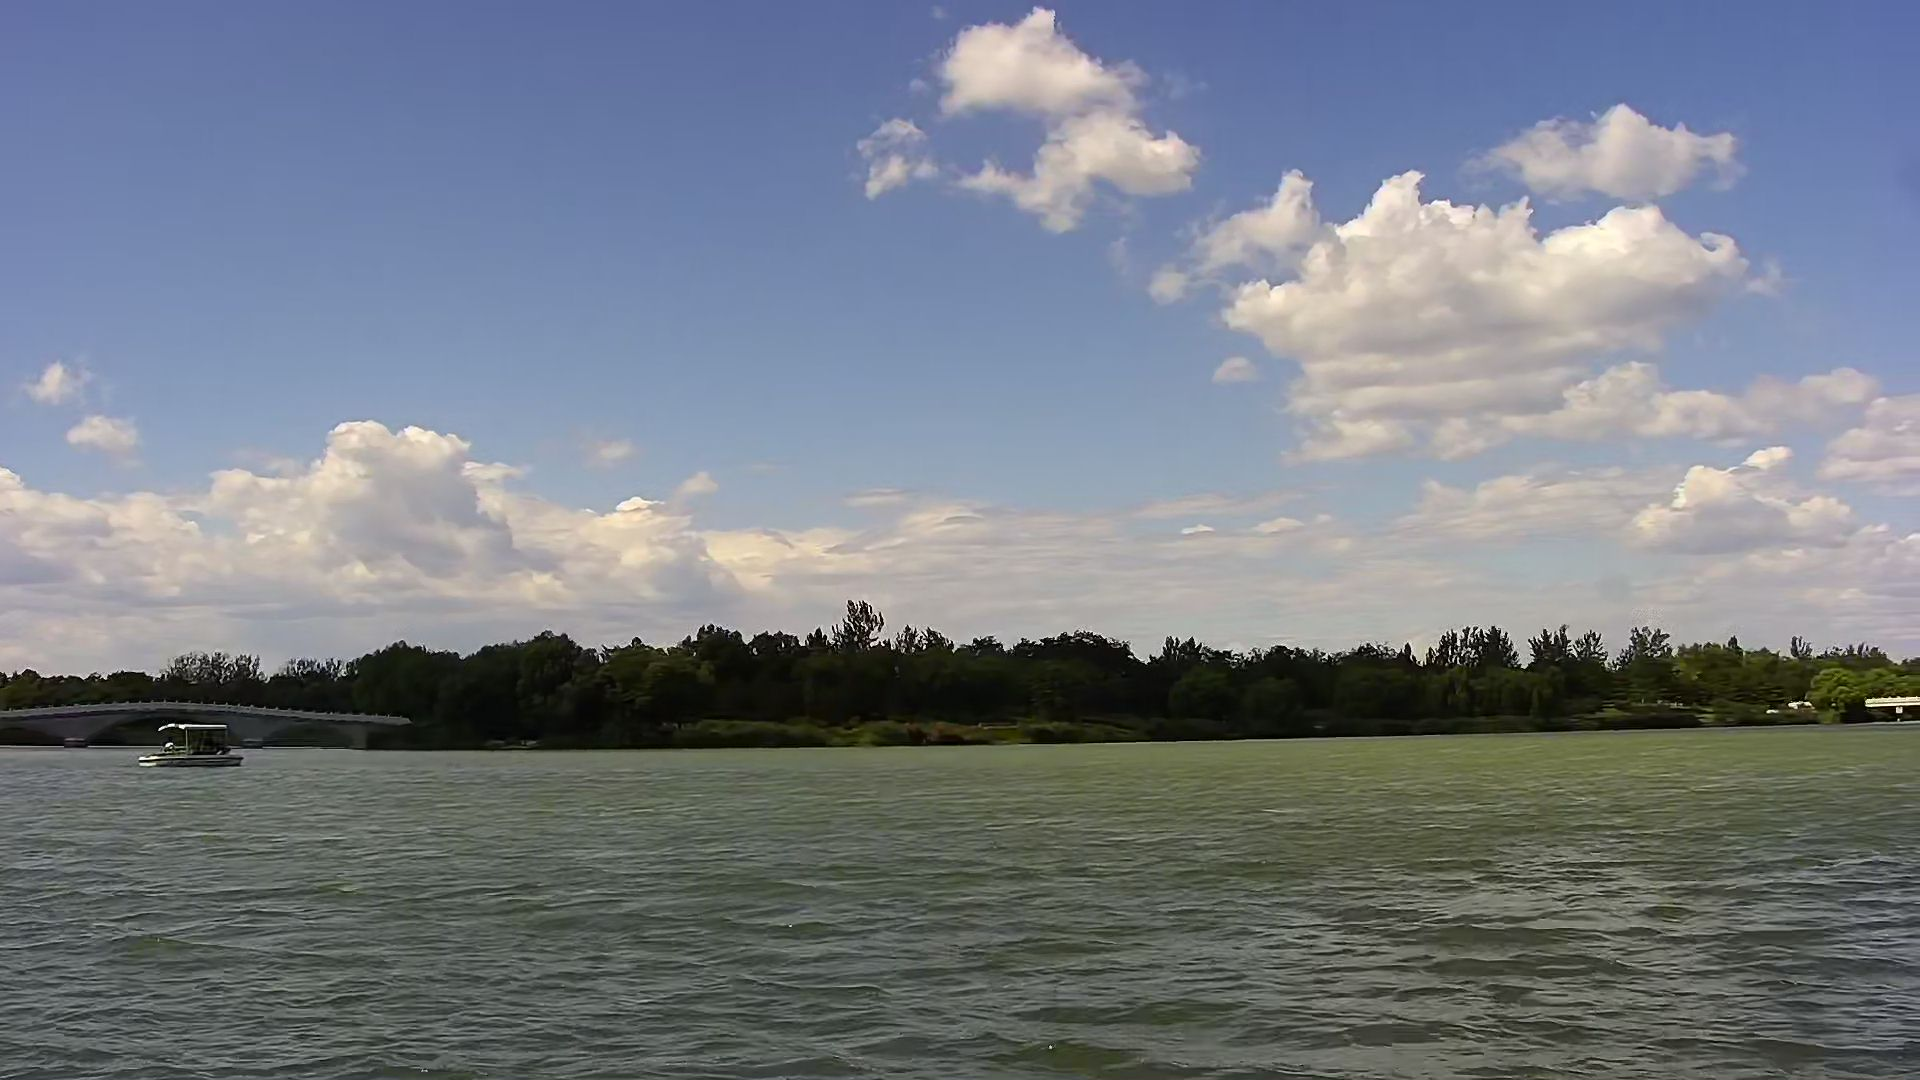boat: (135, 723, 255, 766)
bridge: (1, 699, 411, 757)
